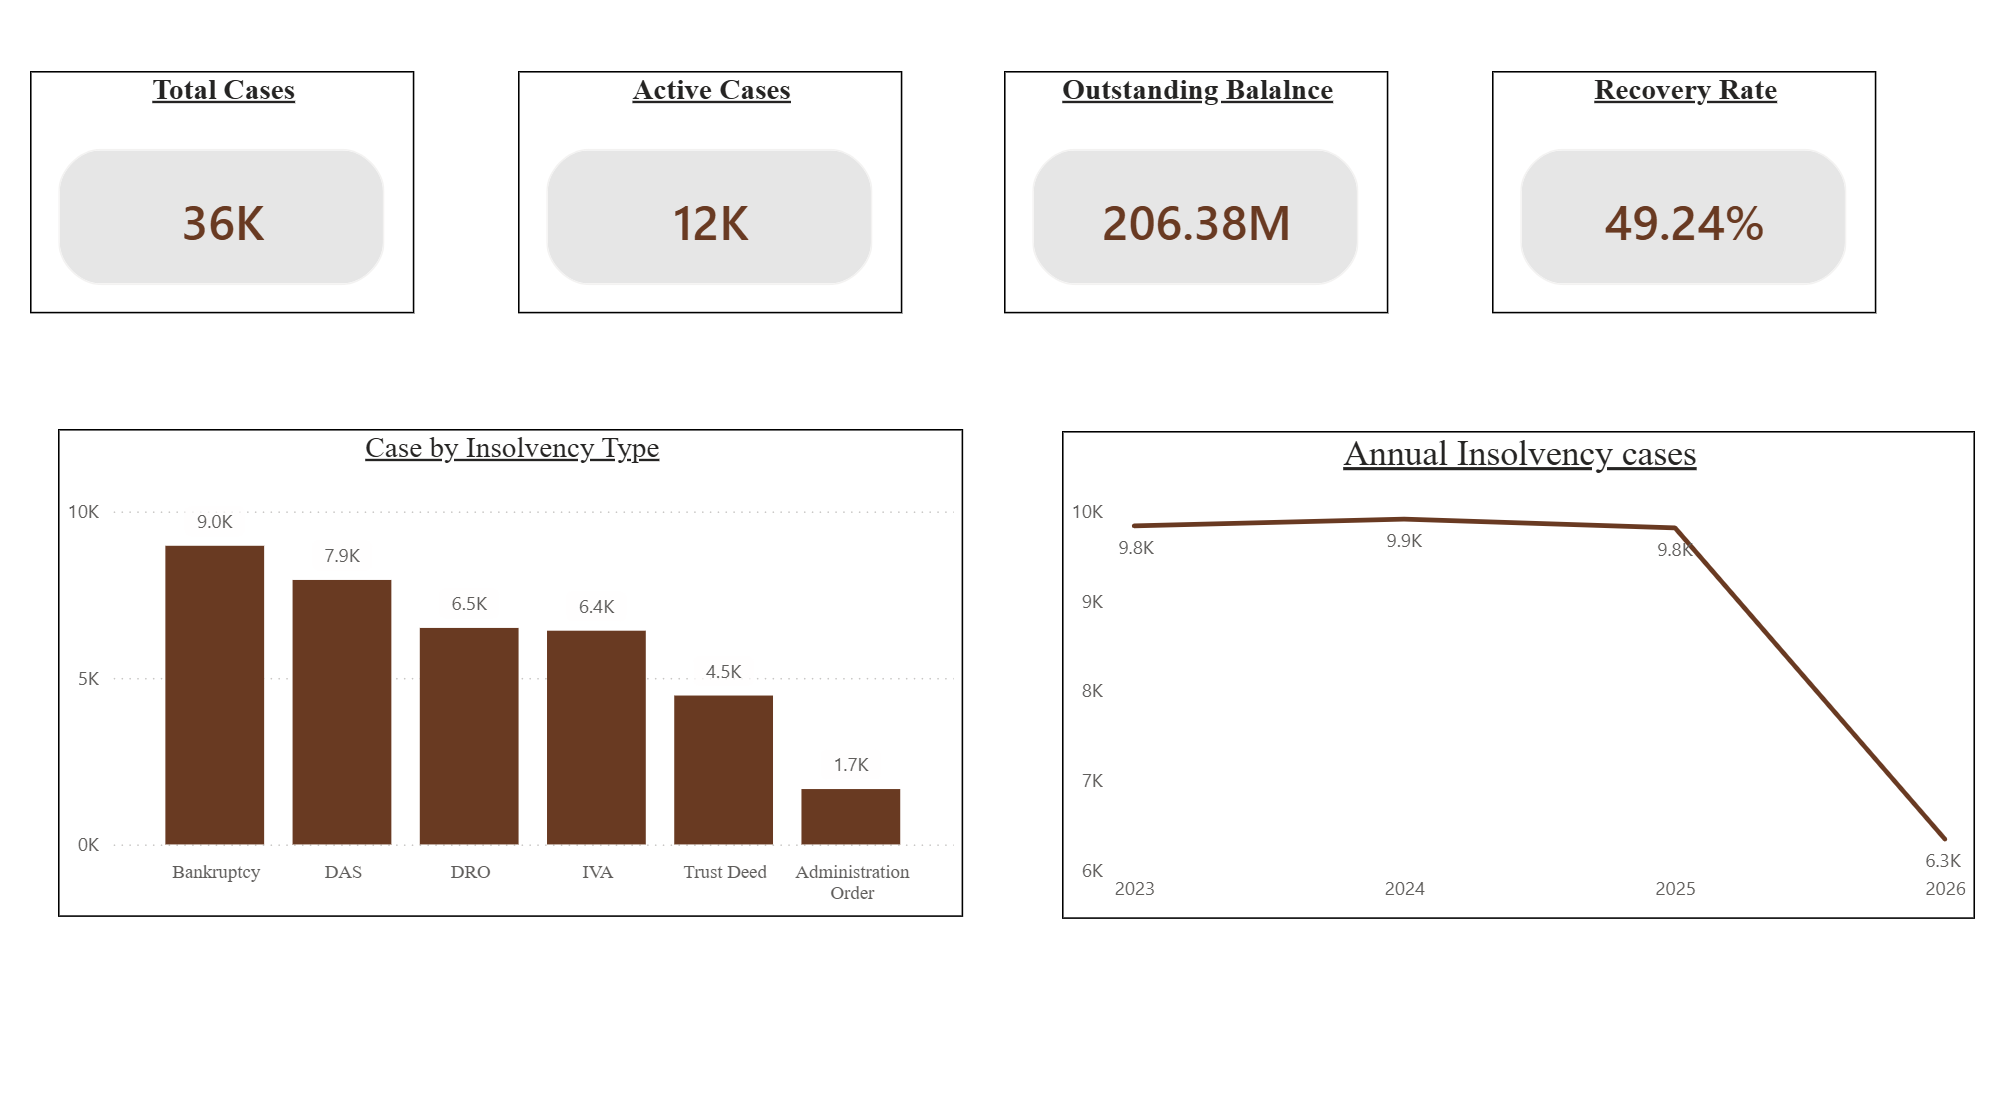

This screenshot's page, from the dashboard's own definition file:
{"tool":"powerbi","page":{"name":"Executive Overview","canvas":[1280,720],"ordinal":0},"visuals":[{"type":"cardVisual","title":"Total Cases","fields":{"Data":["Measure.Total cases"]},"box":[21.4,53.6,245,154.6],"z":0},{"type":"cardVisual","title":"Active Cases","fields":{"Data":["Measure.Active cases"]},"box":[332.2,53.6,245,154.6],"z":1000},{"type":"cardVisual","title":"Outstanding Balalnce","fields":{"Data":["Measure.Total Outstanding Balance"]},"box":[643.1,53.6,245,154.6],"z":2000},{"type":"cardVisual","title":"Recovery Rate","fields":{"Data":["Measure.Recovery Rate"]},"box":[953.9,53.6,245,154.6],"z":3000},{"type":"lineClusteredColumnComboChart","title":"Case by Insolvency Type","fields":{"Category":["Insolvency.Insolvency_Type"],"Y":["Measure.Total cases"]},"box":[39.8,281.7,577.2,310.8],"z":4000},{"type":"lineChart","title":"Annual Insolvency cases","fields":{"Category":["Date.Date.Variation.Date Hierarchy.Year"],"Y":["Measure.Cases by Referral Date"]},"box":[679.8,283.3,581.8,310.8],"z":5000}]}

Visuals, with their boxes in screenshot pixels (x1, y1, x2, y2), scaled from the page's 1280x720 canvas onto the 1998x1116 screenshot:
"Total Cases" cardVisual: (33, 83, 416, 323)
"Active Cases" cardVisual: (519, 83, 901, 323)
"Outstanding Balalnce" cardVisual: (1004, 83, 1386, 323)
"Recovery Rate" cardVisual: (1489, 83, 1871, 323)
"Case by Insolvency Type" lineClusteredColumnComboChart: (62, 437, 963, 918)
"Annual Insolvency cases" lineChart: (1061, 439, 1969, 921)
